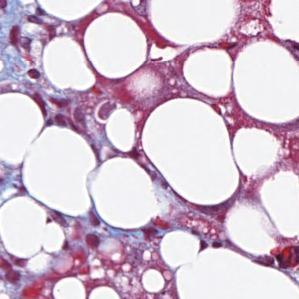inflammation: (4, 24, 46, 82)
